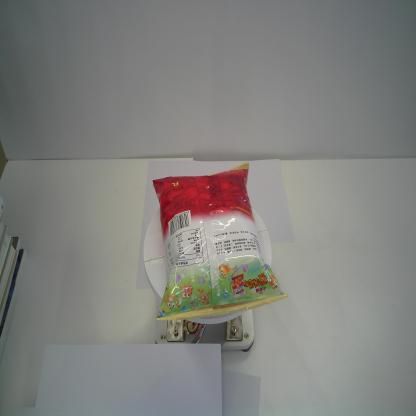Puffed Food: (152, 163, 289, 320)
